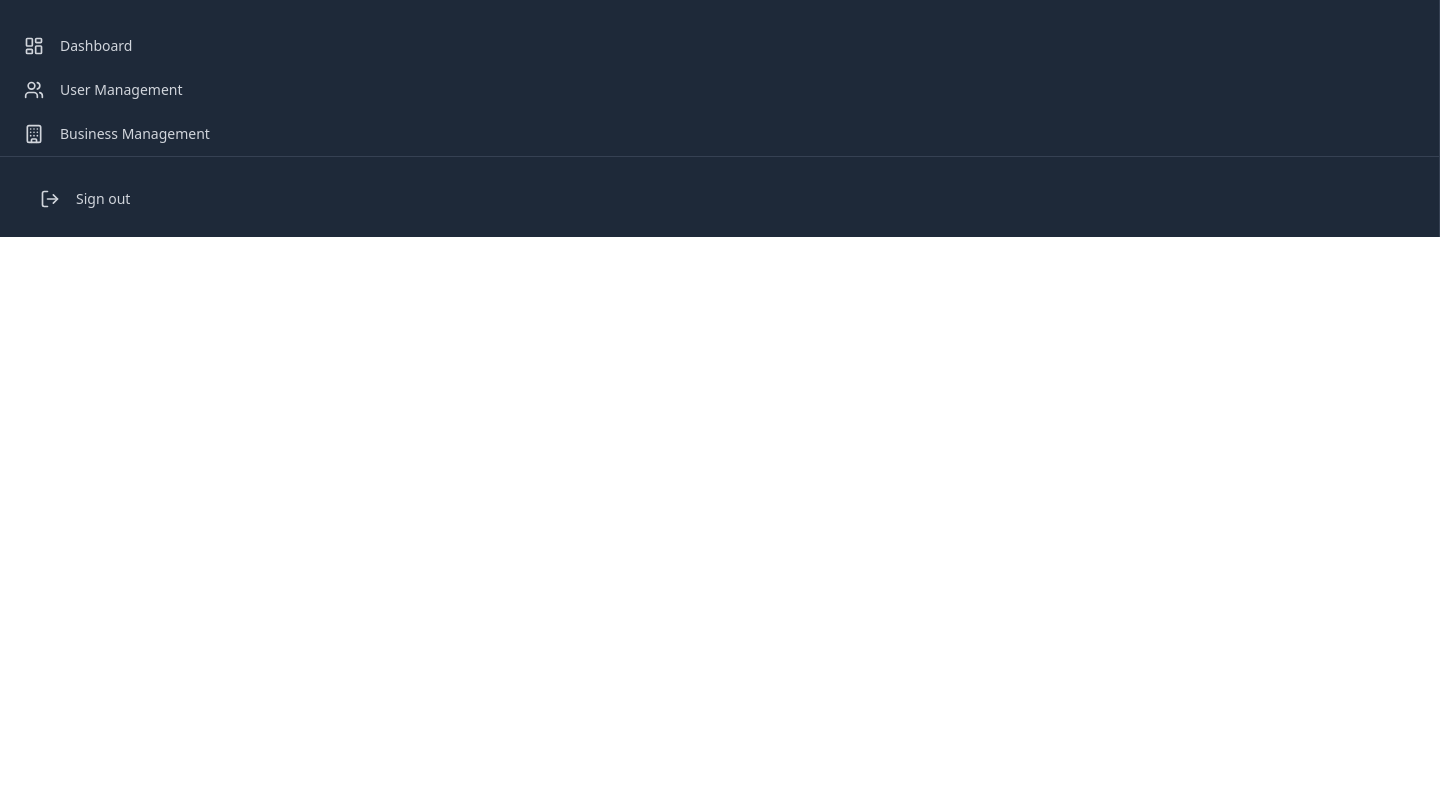
Scenario: AdminSidebarNav Component › should open the confirmation modal when the sign out button is clicked
This screenshot has width=1440, height=810.
What coordinates should you click on to do the following:
click the button "Sign out"
I would click on:
 (103, 198)
Its box is [16,177,1423,221].
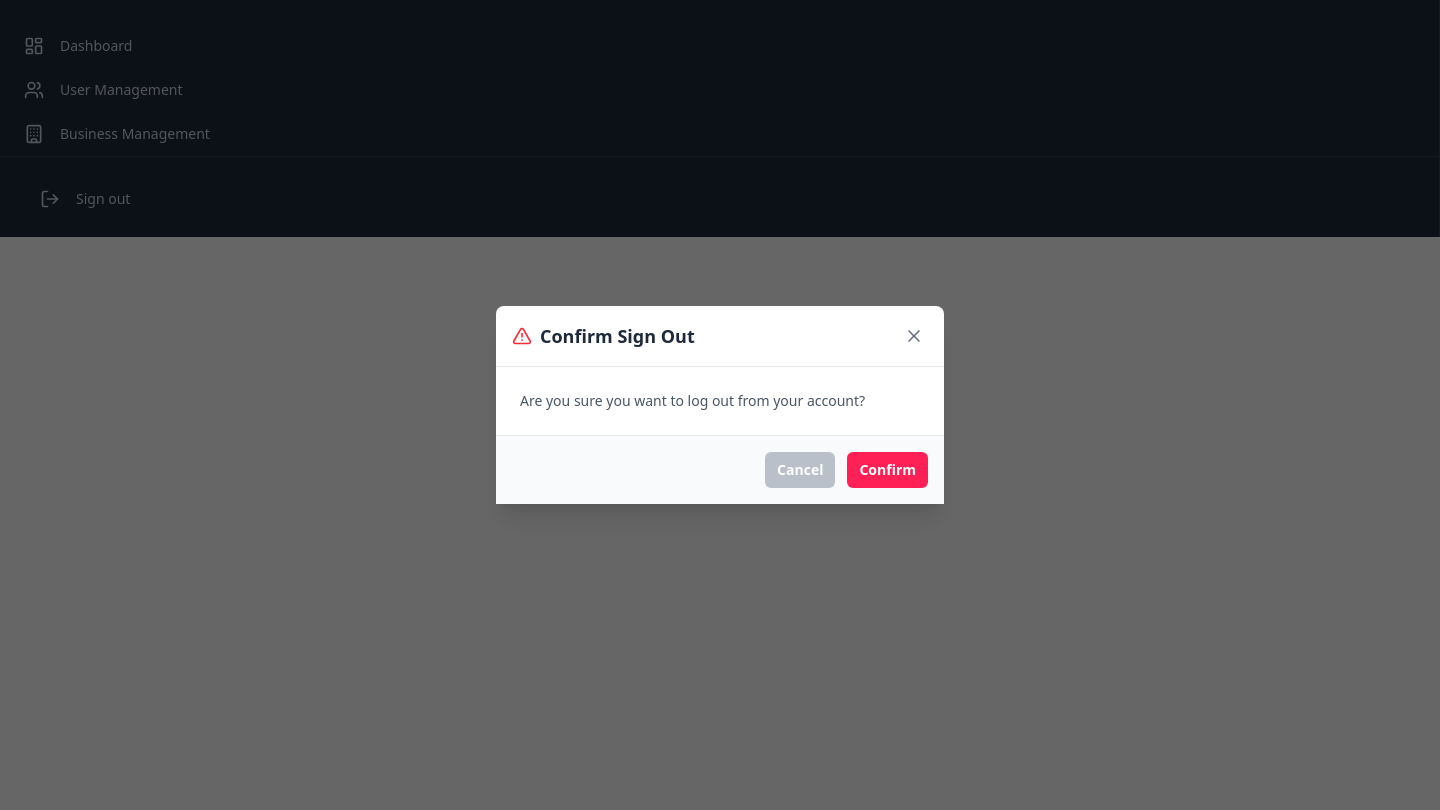
Now the heading "Confirm Sign Out" is shown, box [512,322,695,350]
